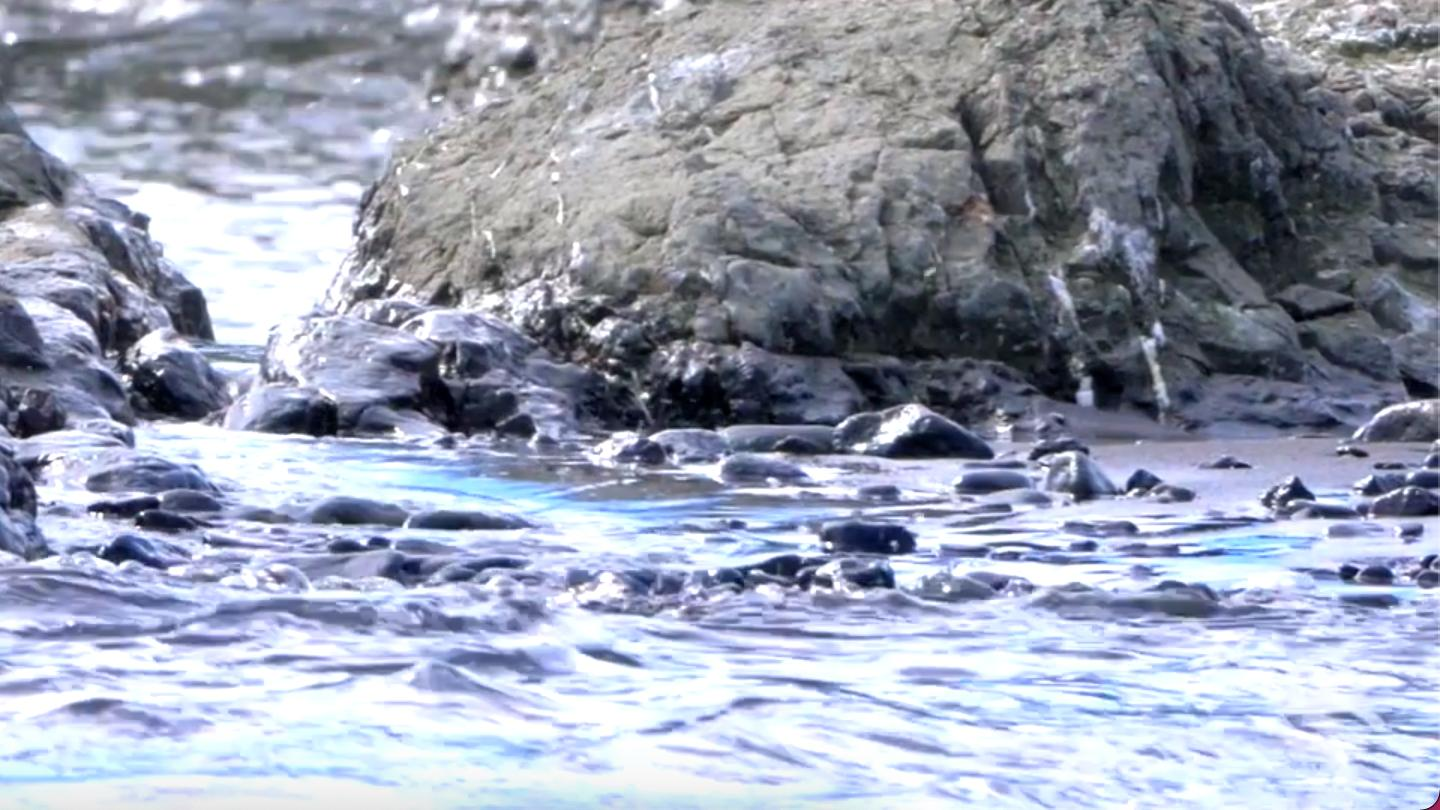Chinstrap Penguin: (0, 0, 6, 28)
